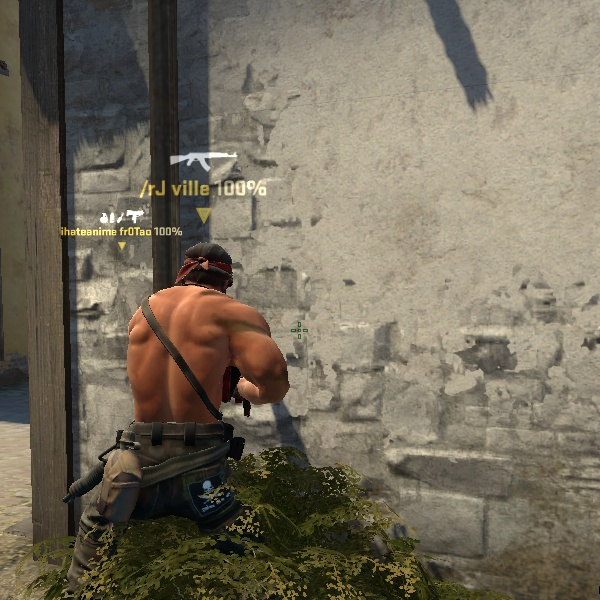t_body: (60, 236, 327, 559)
t_head: (164, 232, 252, 313)
